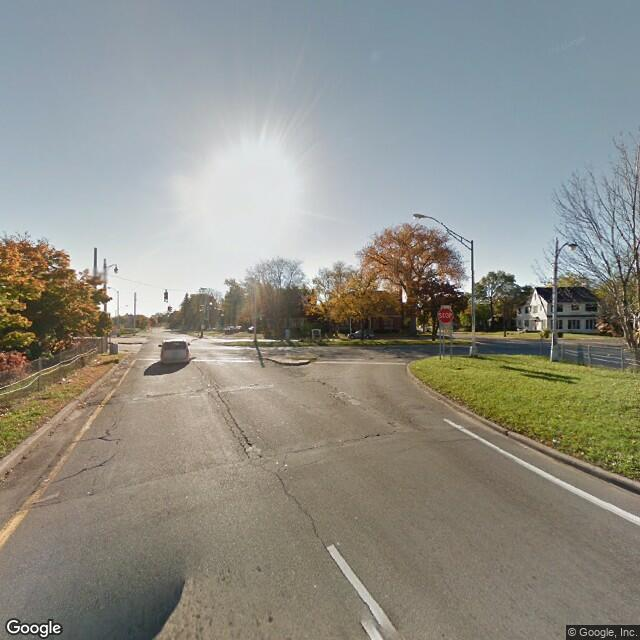litter: (543, 436, 561, 442), (60, 377, 74, 383), (608, 463, 621, 469), (92, 358, 99, 365)
